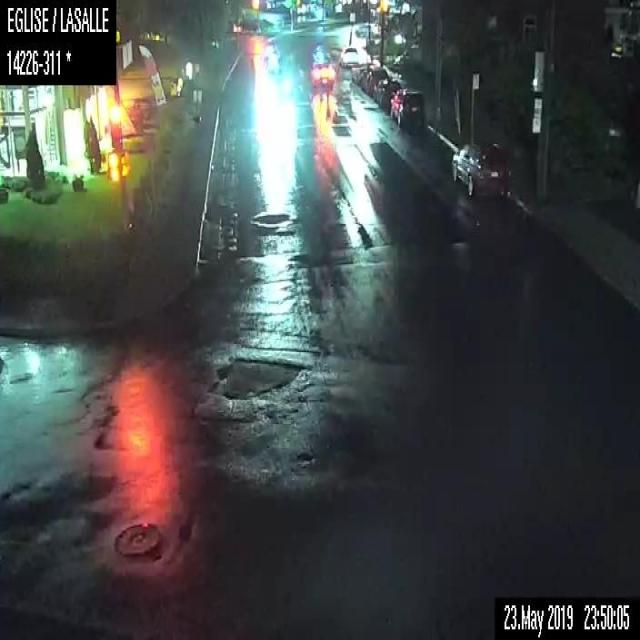vehicle: (449, 138, 510, 198), (388, 87, 426, 127), (358, 63, 388, 95), (372, 77, 400, 111), (311, 61, 334, 84), (339, 46, 359, 67)
